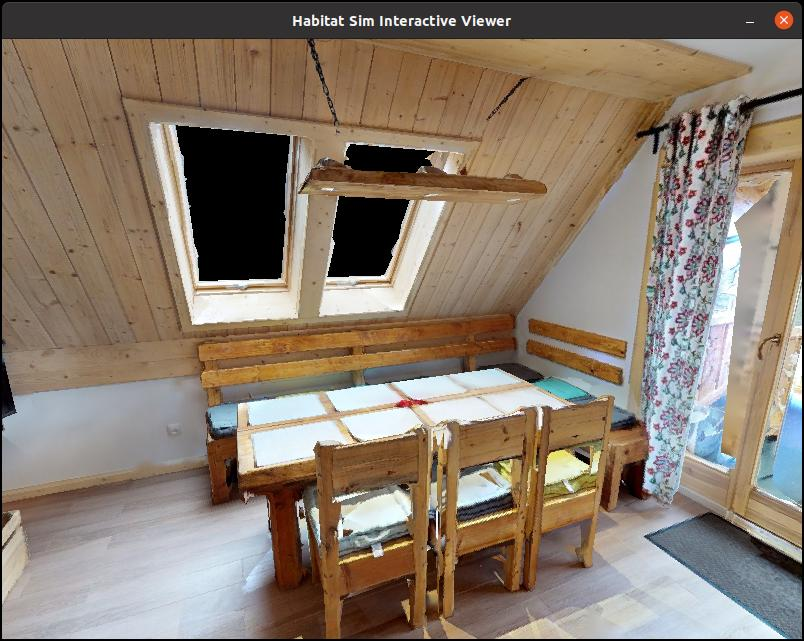chair: (279, 423, 445, 641), (500, 379, 651, 603), (419, 401, 544, 613)
table: (227, 347, 577, 581)
